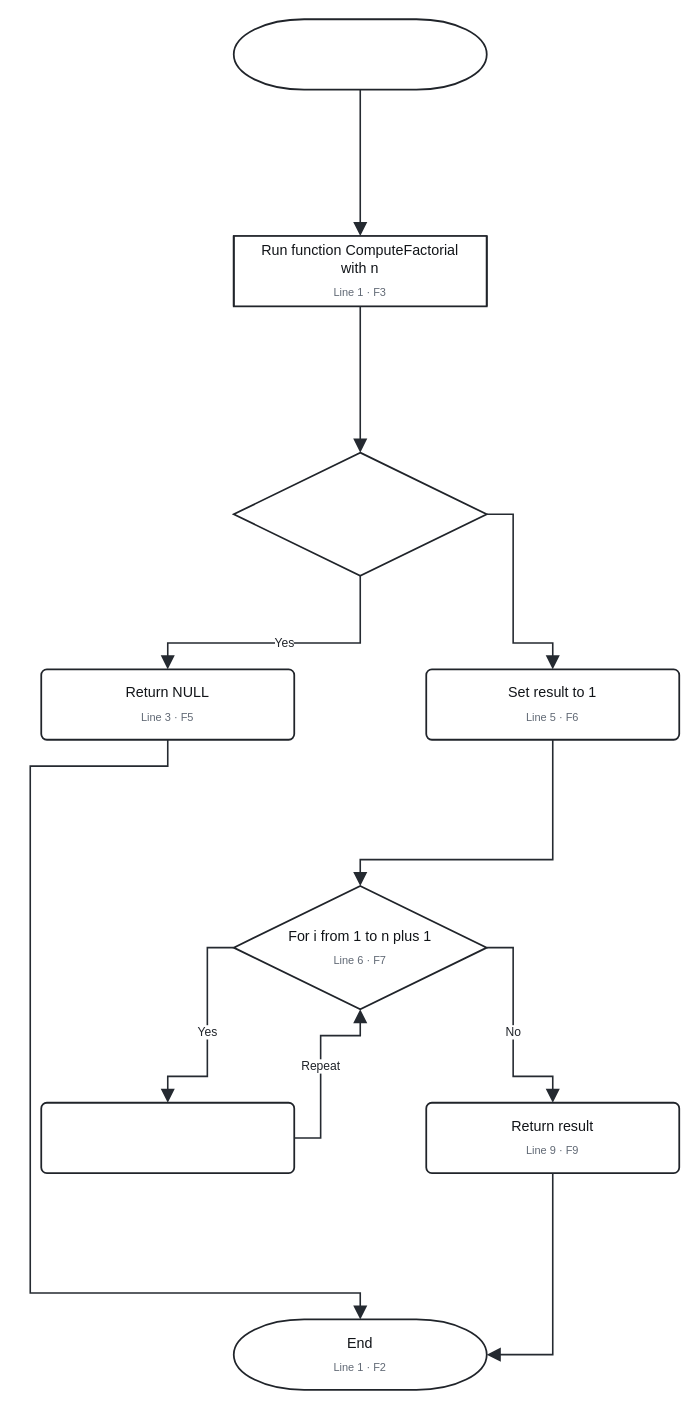
This 700x1410 diagram has some shape labels left out. The centre of each missing label's shape, as x and y in pixels:
N is less than 0? Line 2 · F4: the point at 359,513
Set result to result multiplied by i Line 7 · F8: the point at 167,1137
Start Line 1 · F1: the point at 359,54
